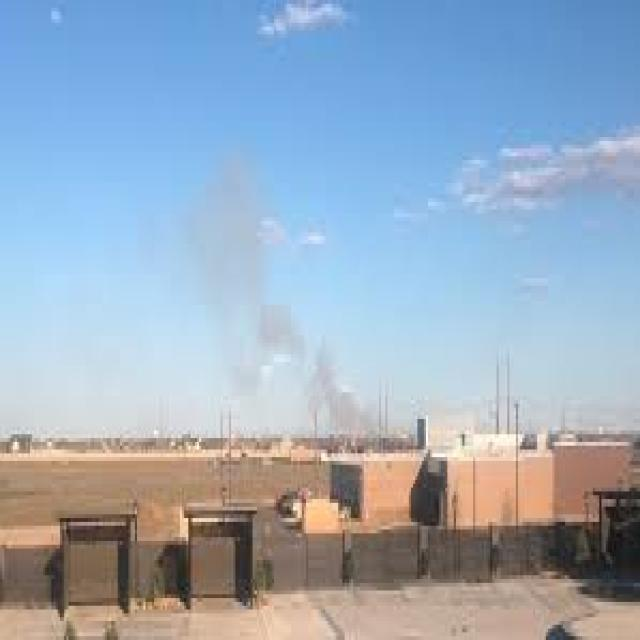Smoke: (0, 143, 409, 436)
